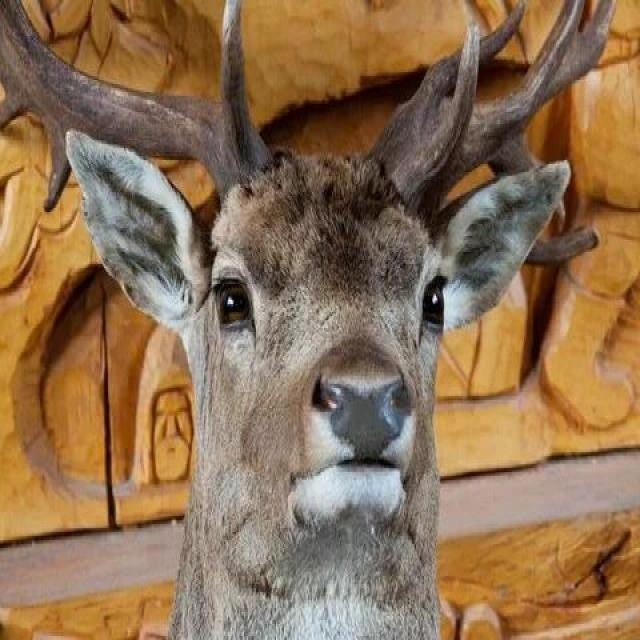deer: (132, 40, 540, 640)
